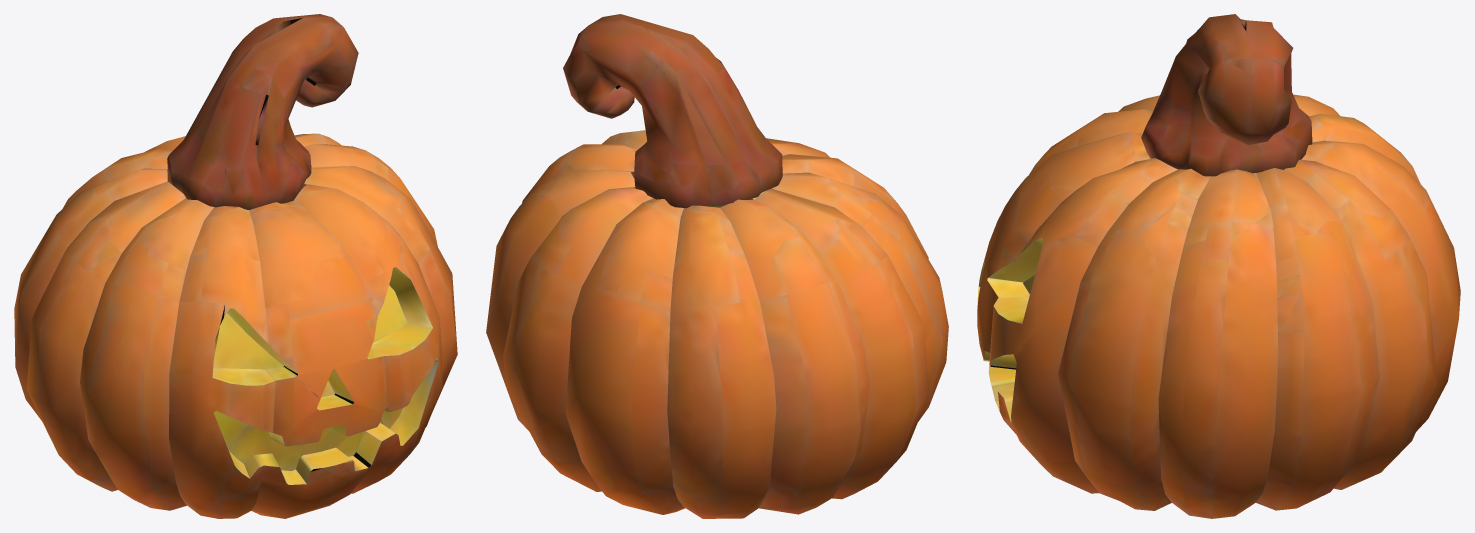
File: kit-jack-o-lantern.lod.glb
3 views of the same model, side by side, from view 1: azimuth 30°, elevation 25°; view 2: azimuth 150°, elevation 25°; view 3: azimuth 270°, elevation 25° (orthographic). The views are drawn at different scales.
Parts seen in each view (by area): view 1: WBA_Pumpkin_JackOLantern_01_WBA_MAT_Halloween_Atlas_0.001; view 2: WBA_Pumpkin_JackOLantern_01_WBA_MAT_Halloween_Atlas_0.001; view 3: WBA_Pumpkin_JackOLantern_01_WBA_MAT_Halloween_Atlas_0.001.
Part boxes in pixels (x1,y1,x2,y2): WBA_Pumpkin_JackOLantern_01_WBA_MAT_Halloween_Atlas_0.001: (14, 14, 457, 518); WBA_Pumpkin_JackOLantern_01_WBA_MAT_Halloween_Atlas_0.001: (486, 14, 948, 518); WBA_Pumpkin_JackOLantern_01_WBA_MAT_Halloween_Atlas_0.001: (977, 14, 1460, 518).
Bounding box in the file's own units: 0.3853 × 0.3963 × 0.3652.
Materials: 1 (1 with a texture image).
